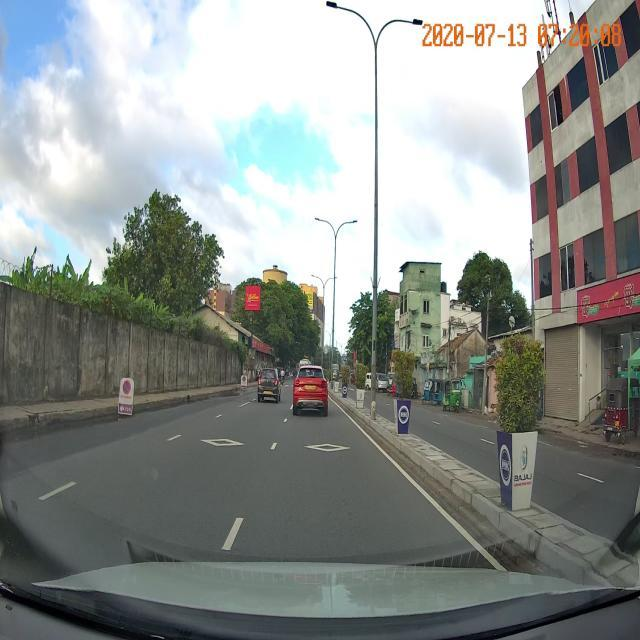diamond: (268, 442, 392, 457)
